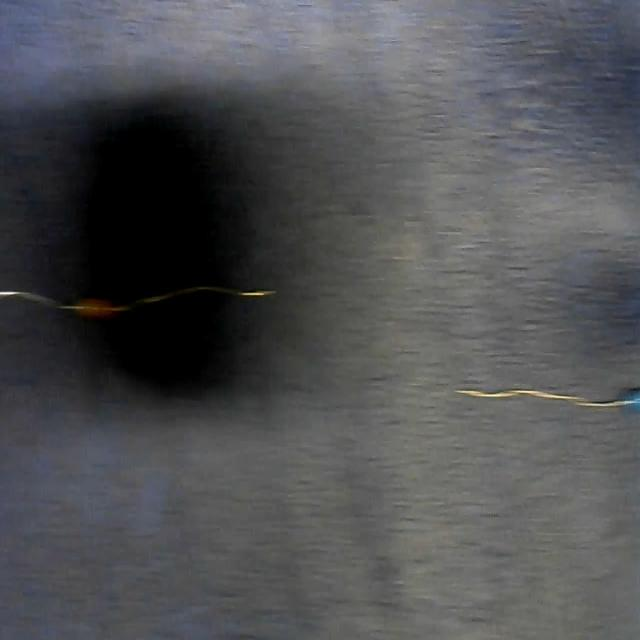resistor: (0, 267, 278, 322), (457, 374, 640, 422)
